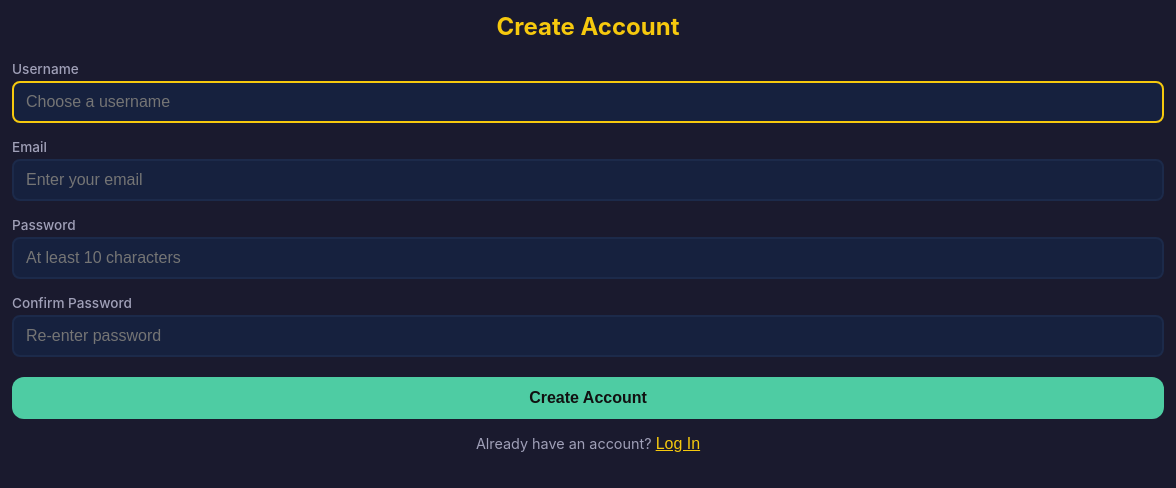
Test: RegisterForm › shows validation error on password blur with short value
The image size is (1176, 488).
Type "short" into the password field labelled "Password" at coordinates (588, 258), box [12,237,1164,279]
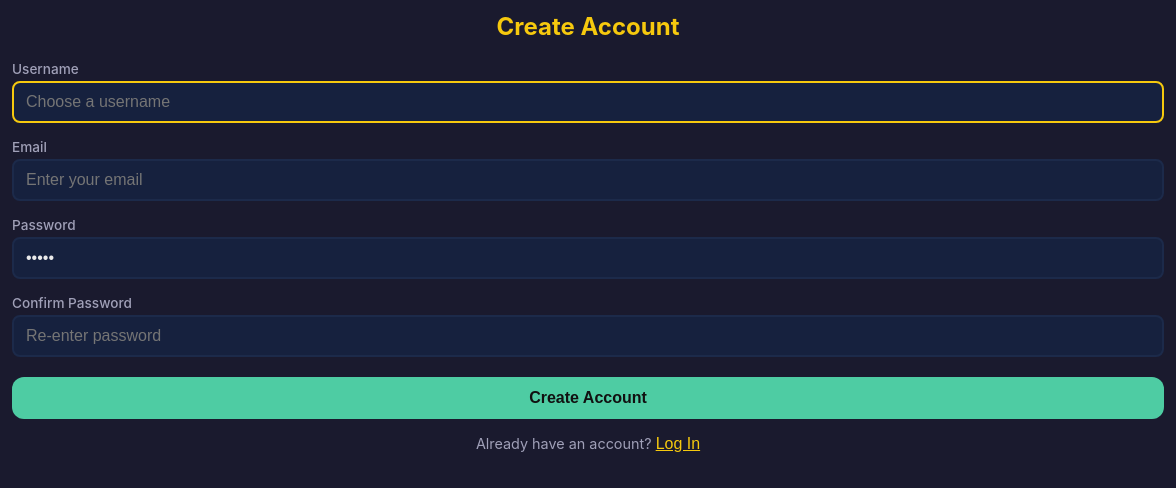
Leave the password field labelled "Password", box [12,237,1164,279]
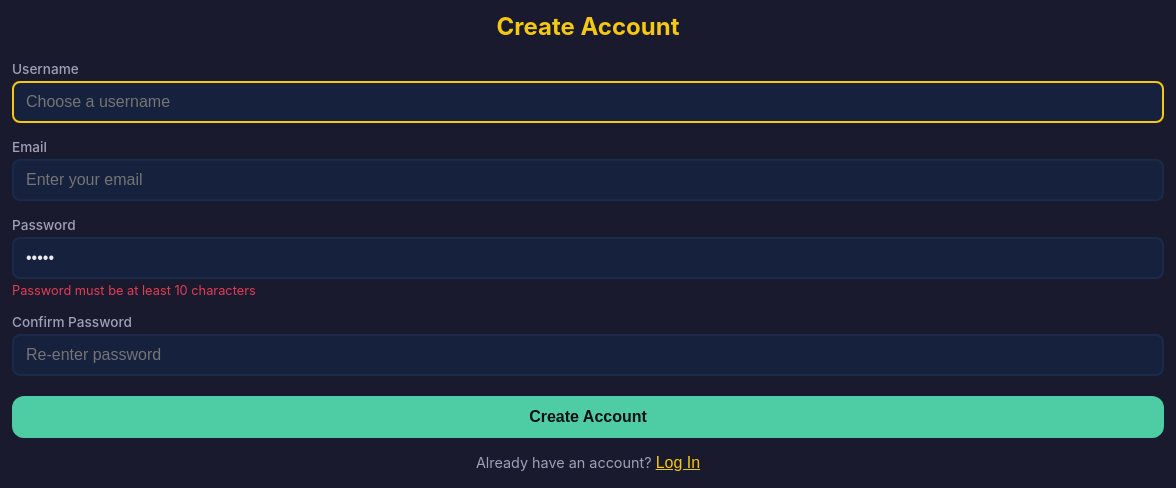
expect the text "Password must be at least 10 characters" is shown: met, box [12,283,256,298]
